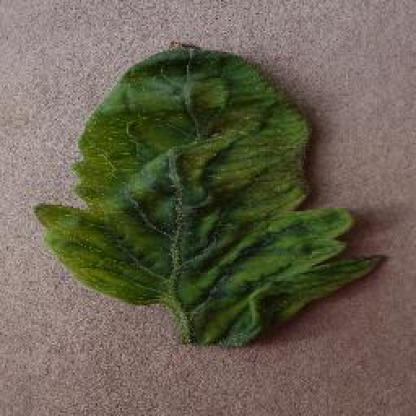bad leaf: (76, 58, 326, 288)
